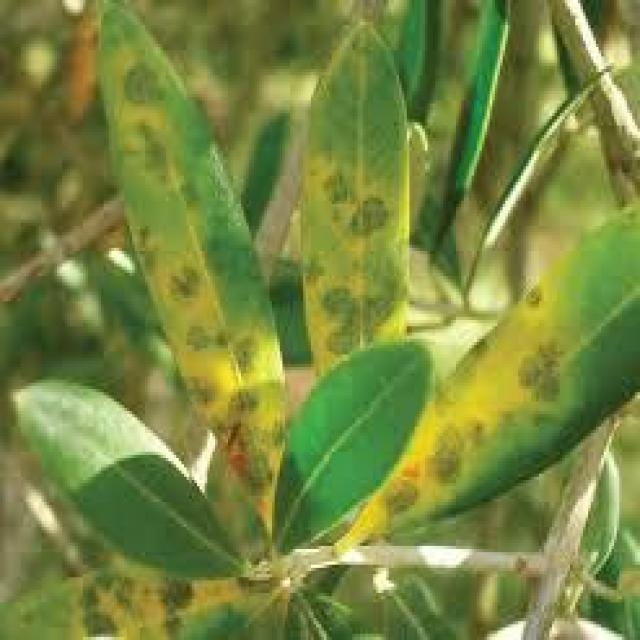Peacock Eye: (327, 204, 637, 554), (98, 3, 285, 545), (301, 25, 410, 388)
